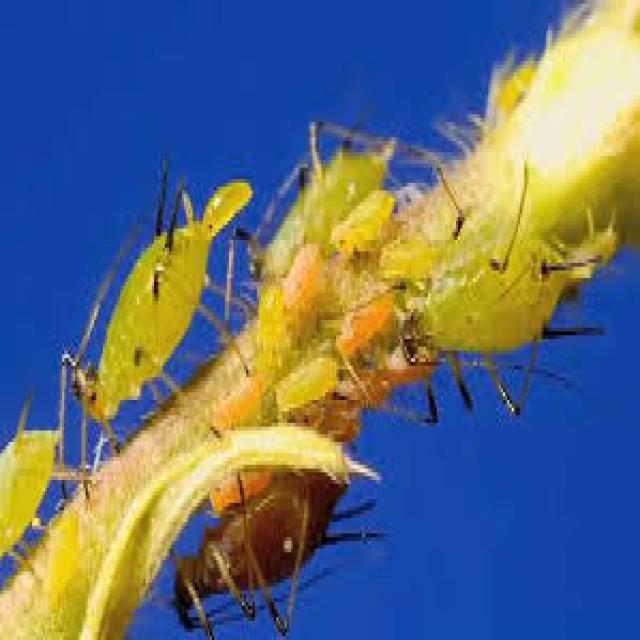Aphid: (394, 160, 615, 440), (77, 133, 258, 456), (179, 417, 375, 637), (264, 105, 404, 277)
